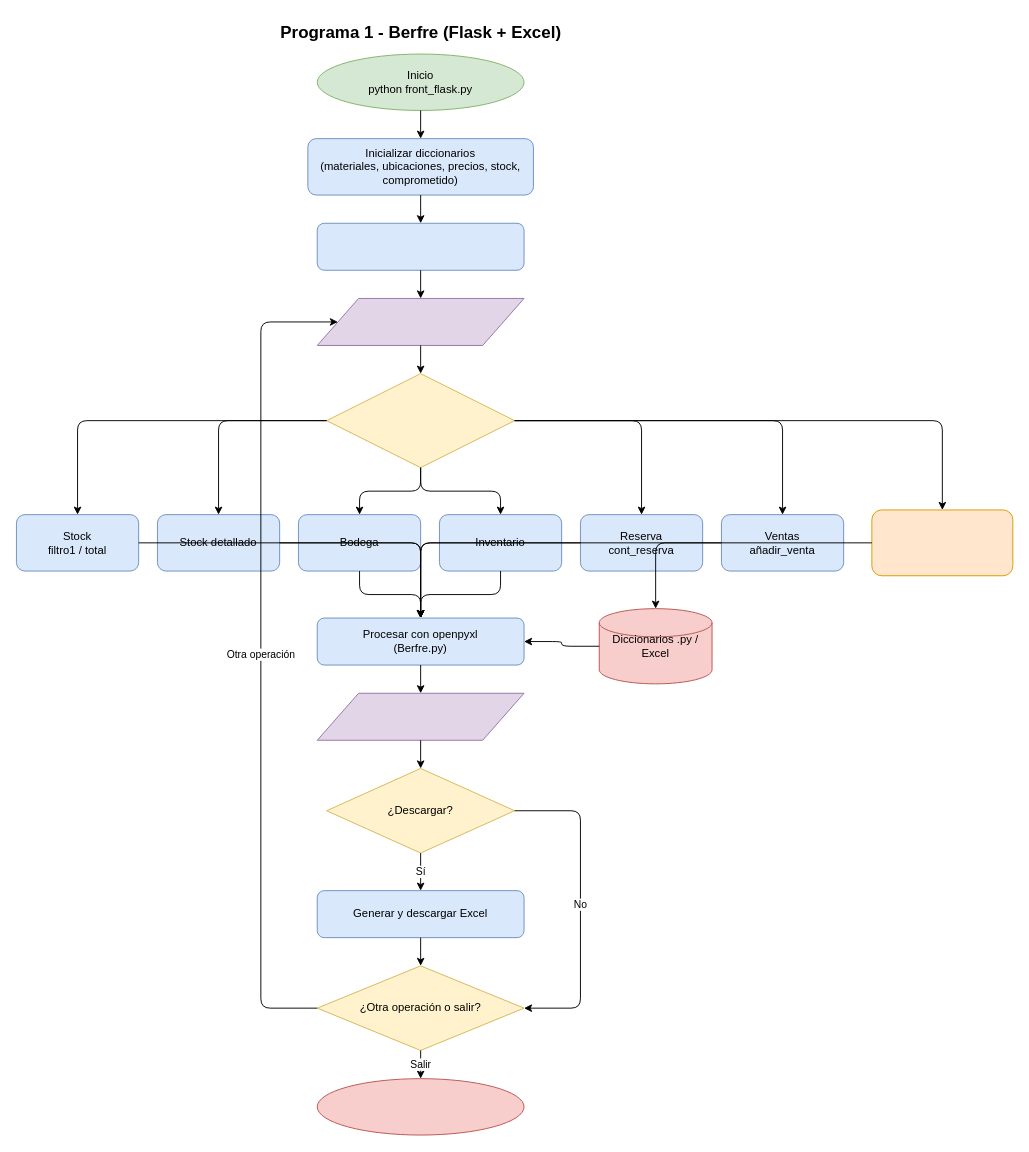
This 1029x1152 diagram has some shape labels left out. Here are the shapes that lost their labels. From the top down, the box of each, then its label:
(316, 222, 524, 270): Abrir navegador (Timer) Mostrar home
(316, 298, 524, 345): Usuario sube archivo Excel
(326, 373, 515, 468): ¿Qué operación?
(871, 509, 1013, 576): Diccionarios agregar / modificar / eliminar / importar / exportar
(316, 692, 524, 740): Vista previa en pantalla
(316, 1078, 524, 1135): /apagar - cerrar servidor Fin
